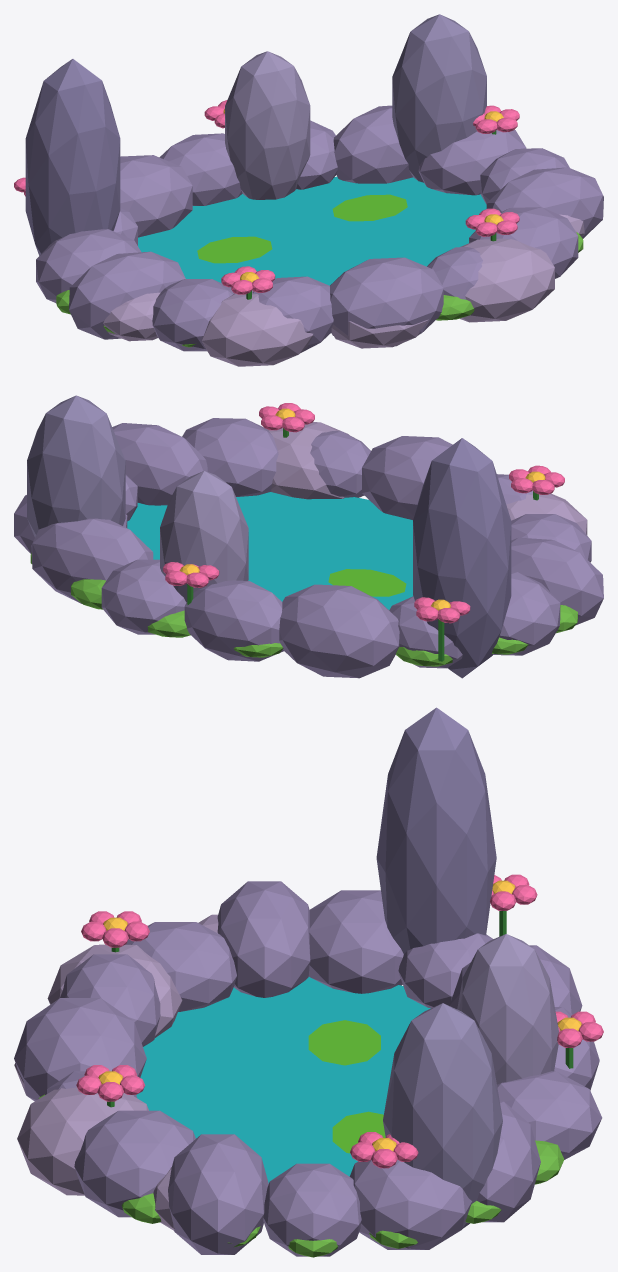
The model's file is pond.obj.
3 views of the same model, one above another, from view 1: azimuth 30°, elevation 25°; view 2: azimuth 150°, elevation 25°; view 3: azimuth 270°, elevation 25° (orthographic). The views are drawn at different scales.
Parts seen in each view (by area): view 1: Pond_Water, Tall_Rock_Left, Tall_Rock_Right, Tall_Rock_Back, Border_Rock_12, Front_Stone_2, Front_Stone_0, Border_Rock_9, Border_Rock_6, Border_Rock_3, Border_Rock_15, Border_Rock_10 (+14 smaller); view 2: Tall_Rock_Left, Pond_Water, Tall_Rock_Right, Border_Rock_6, Tall_Rock_Back, Border_Rock_3, Border_Rock_5, Border_Rock_14, Border_Rock_15, Border_Rock_12, Border_Rock_9, Border_Rock_4 (+16 smaller); view 3: Pond_Water, Tall_Rock_Left, Tall_Rock_Right, Tall_Rock_Back, Border_Rock_15, Border_Rock_9, Border_Rock_12, Border_Rock_14, Border_Rock_8, Border_Rock_2, Border_Rock_1, Front_Stone_2 (+13 smaller).
Part boxes in pixels (<box>): Pond_Water: <box>138,176,486,285</box>; Tall_Rock_Left: <box>25,59,120,255</box>; Tall_Rock_Right: <box>392,14,486,182</box>; Tall_Rock_Back: <box>225,51,310,199</box>; Border_Rock_12: <box>330,257,443,346</box>; Front_Stone_2: <box>460,238,554,322</box>; Front_Stone_0: <box>201,290,313,366</box>; Border_Rock_9: <box>69,251,185,339</box>; Border_Rock_6: <box>120,155,192,237</box>; Border_Rock_3: <box>333,105,412,183</box>; Border_Rock_15: <box>486,167,603,238</box>; Border_Rock_10: <box>152,279,233,351</box>; Tall_Rock_Left: <box>413,438,511,678</box>; Pond_Water: <box>127,492,412,609</box>; Tall_Rock_Right: <box>27,395,125,537</box>; Border_Rock_6: <box>279,584,399,678</box>; Tall_Rock_Back: <box>160,471,248,602</box>; Border_Rock_3: <box>31,518,153,603</box>; Border_Rock_5: <box>184,580,283,661</box>; Border_Rock_14: <box>182,418,278,496</box>; Border_Rock_15: <box>112,423,207,505</box>; Border_Rock_12: <box>362,436,452,519</box>; Border_Rock_9: <box>511,537,603,625</box>; Border_Rock_4: <box>101,559,186,634</box>; Pond_Water: <box>136,977,430,1183</box>; Tall_Rock_Left: <box>376,707,496,953</box>; Tall_Rock_Right: <box>383,1003,502,1228</box>; Tall_Rock_Back: <box>457,934,558,1084</box>; Border_Rock_15: <box>168,1134,268,1254</box>; Border_Rock_9: <box>217,881,310,997</box>; Border_Rock_12: <box>14,998,146,1101</box>; Border_Rock_14: <box>74,1110,195,1217</box>; Border_Rock_8: <box>308,890,403,993</box>; Border_Rock_2: <box>349,1160,472,1249</box>; Border_Rock_1: <box>263,1163,361,1256</box>; Front_Stone_2: <box>17,1087,148,1195</box>.
Bounding box in the file's own units: 4.97 × 2.1 × 3.73.
